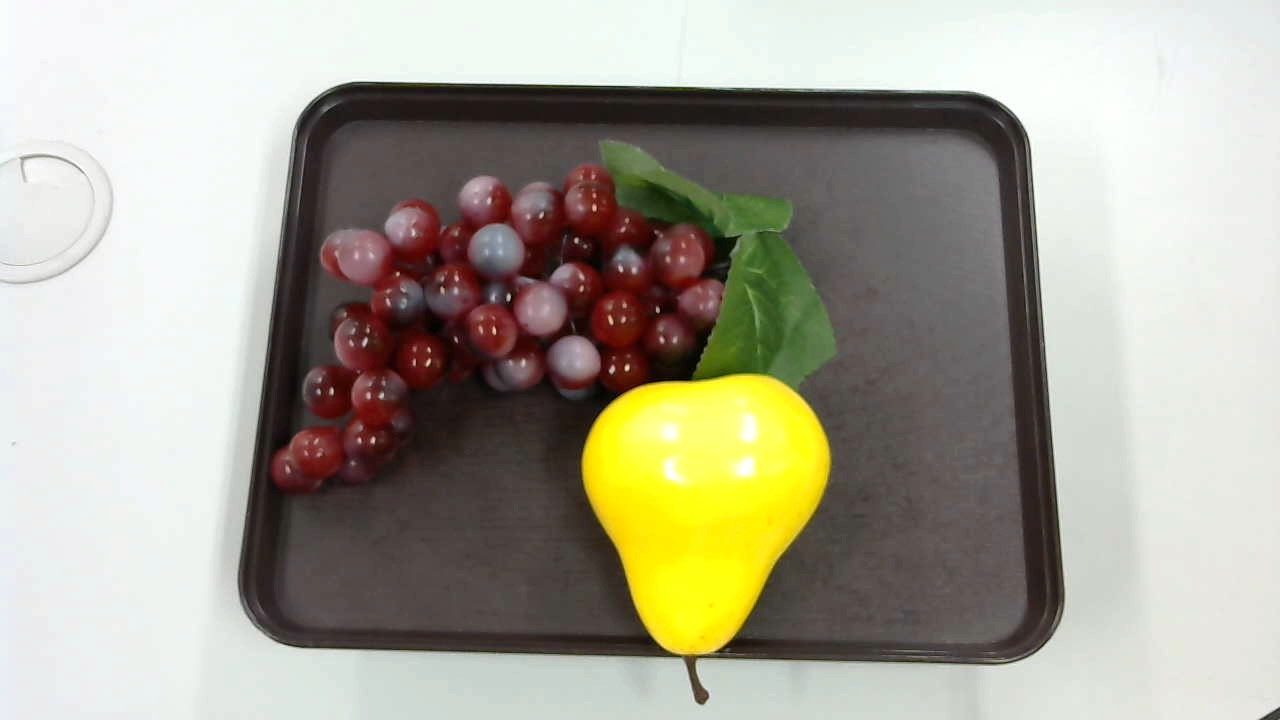grape: (274, 137, 844, 486)
yellow pear: (583, 368, 830, 707)
